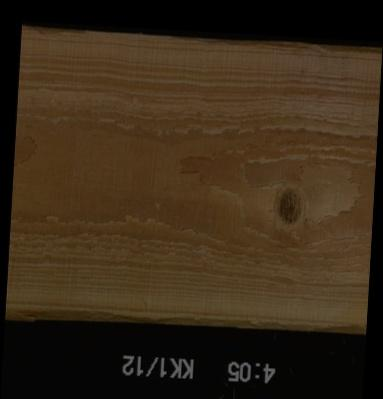sound_knot: (275, 187, 302, 225)
wave: (3, 311, 364, 333), (168, 37, 380, 50), (19, 24, 87, 34)
